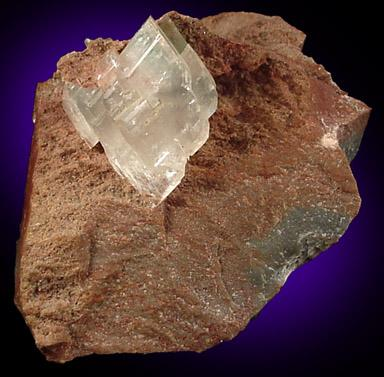calcite: (63, 16, 218, 206)
